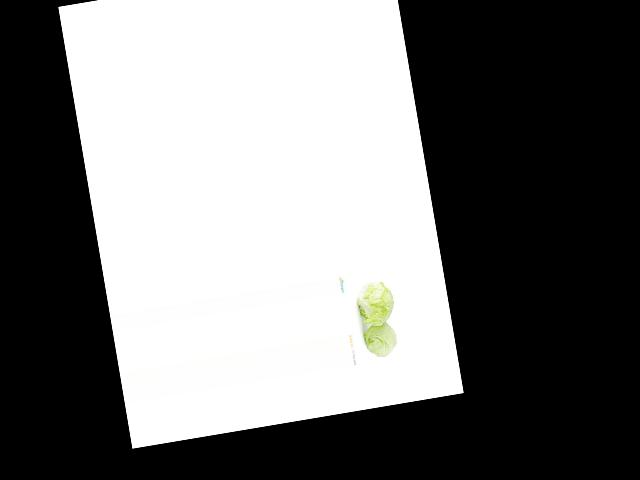lettuce: (353, 311, 399, 362)
